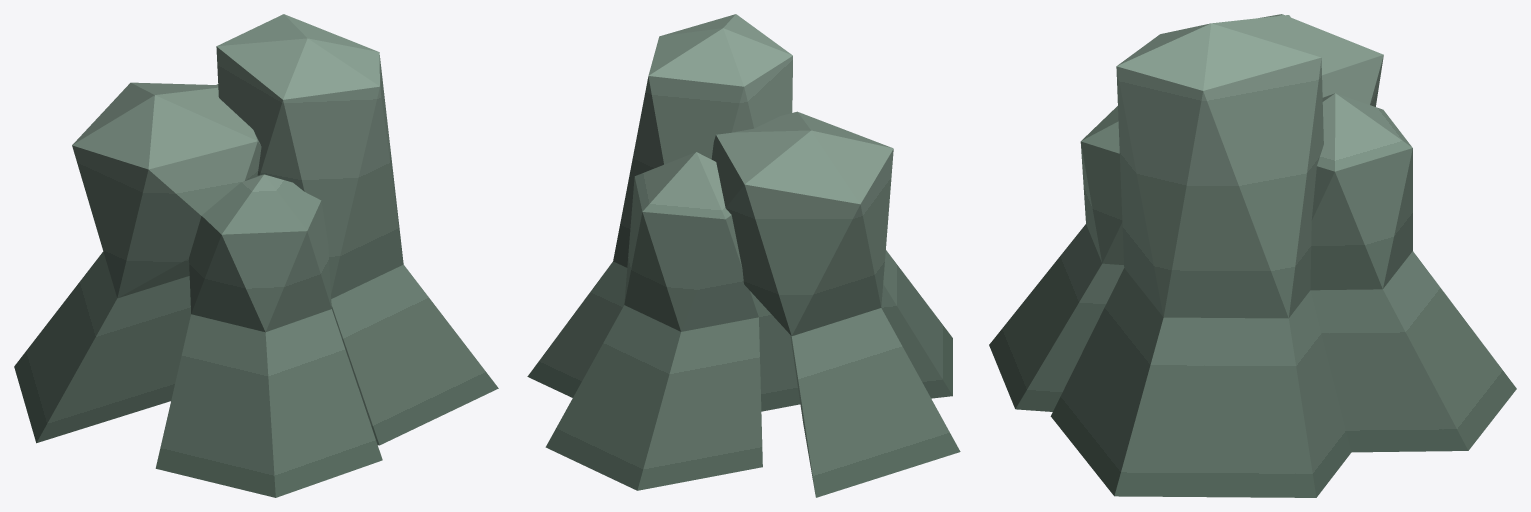
File: stones.fbx
3 renders of one model, left to right at view 1: azimuth 30°, elevation 25°; view 2: azimuth 150°, elevation 25°; view 3: azimuth 270°, elevation 25°, orthographic. The views are drawn at different scales.
Parts seen in each view (by area): view 1: Icosphere.003; view 2: Icosphere.003; view 3: Icosphere.003.
Part boxes in pixels (x1=…): Icosphere.003: x1=14, y1=14, x2=498, y2=497; Icosphere.003: x1=527, y1=14, x2=960, y2=497; Icosphere.003: x1=989, y1=14, x2=1516, y2=497.
Size of the model in its own units: 1990 by 1659 by 2019.
